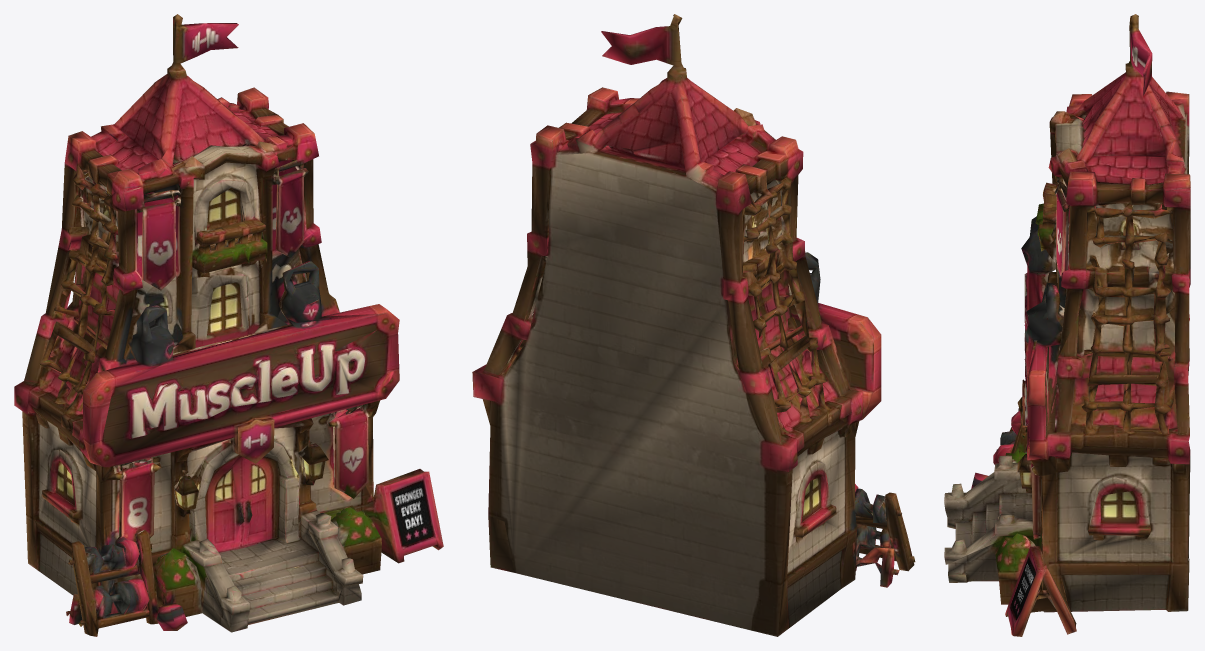
File: project-muscleup.glb
The picture shows the model from 3 angles, left to right: view 1: azimuth 30°, elevation 25°; view 2: azimuth 150°, elevation 25°; view 3: azimuth 270°, elevation 25°; orthographic projection. The views are drawn at different scales.
Parts seen in each view (by area): view 1: Mesh1.0; view 2: Mesh1.0; view 3: Mesh1.0.
Part boxes in pixels (<box>): Mesh1.0: <box>14,14,443,636</box>; Mesh1.0: <box>472,14,915,636</box>; Mesh1.0: <box>944,14,1190,636</box>.
Bounding box in the file's own units: 1.35 × 1.9 × 0.8066.
1 material, 1 textured.
